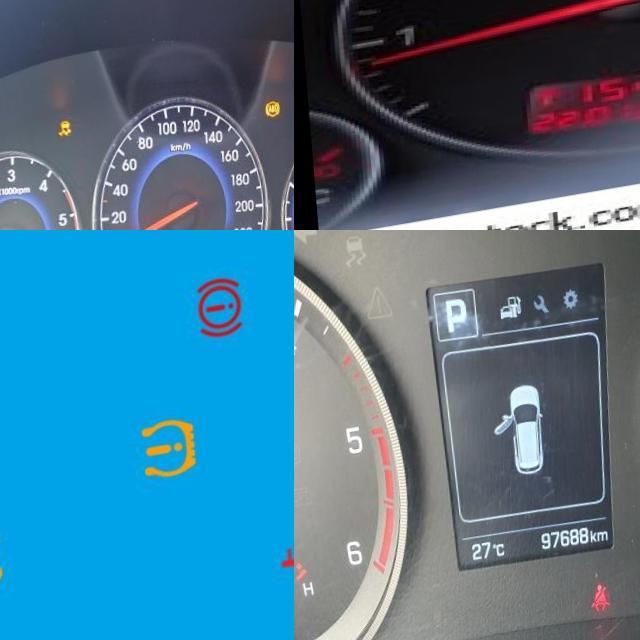High Engine Coolant Temperature: (258, 538, 294, 624)
